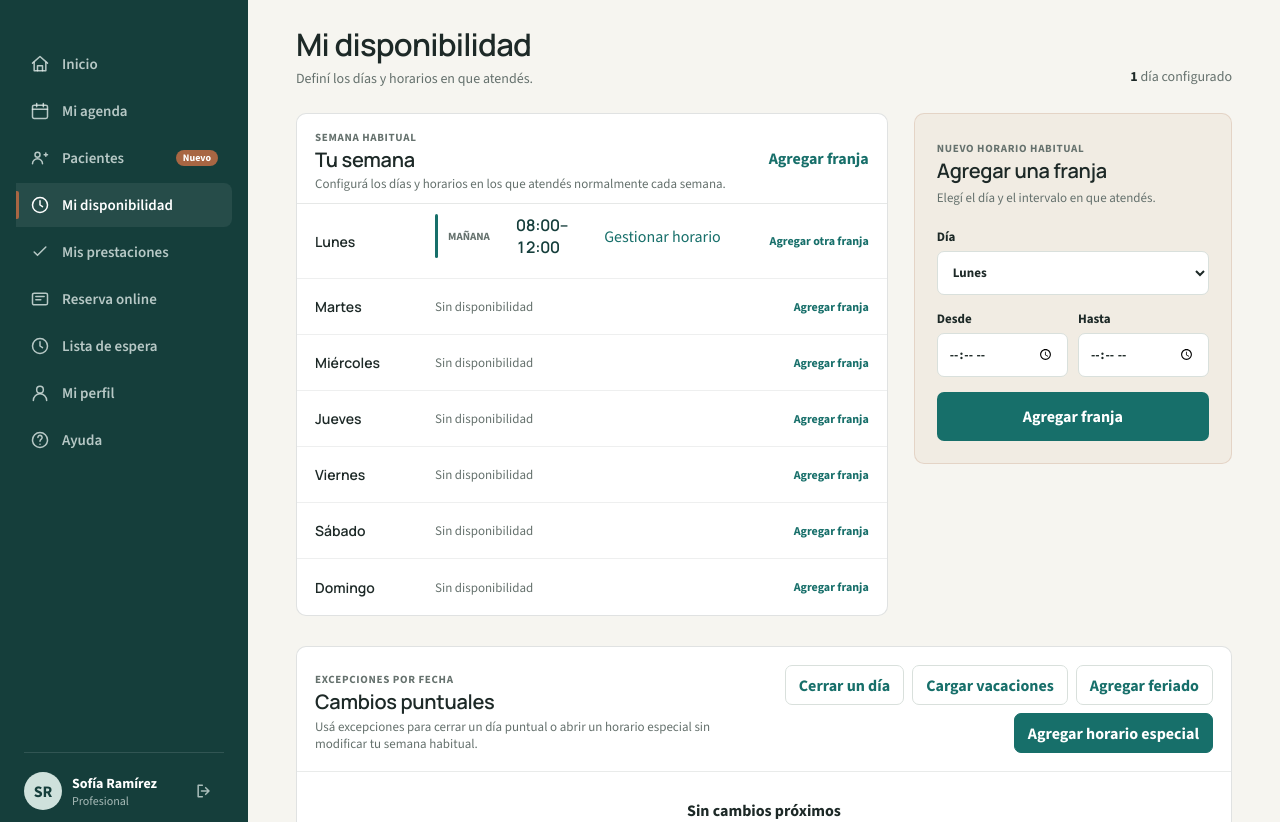
mi disponibilidad profesional Signature › abre el formulario desde un día sin disponibilidad y precarga ese día
This screenshot has width=1280, height=822.
Click the button "Agregar franja" in the row of "Viernes": (831,475) [794,467,869,483]
(page scrolled)
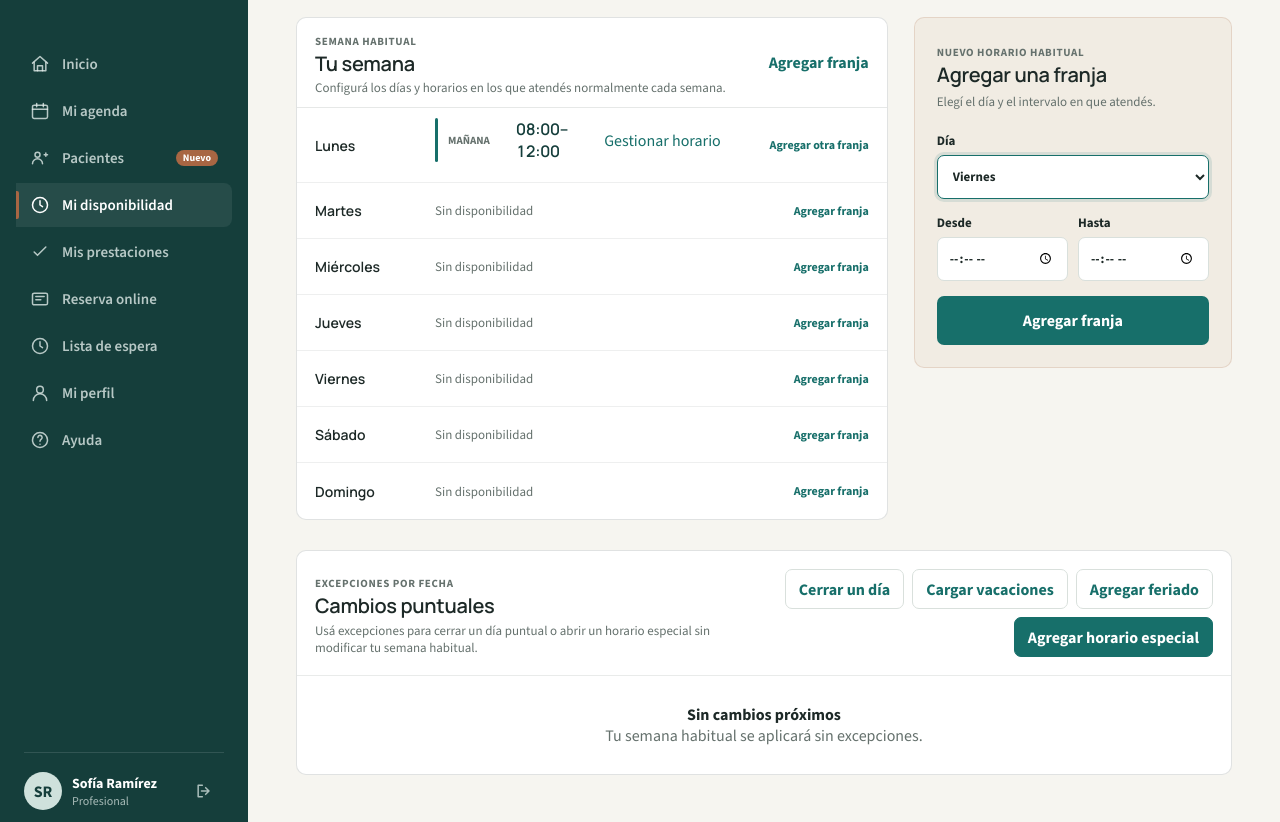
Expected: the dropdown labelled "Día" shows "Viernes", [937,155,1209,199]
